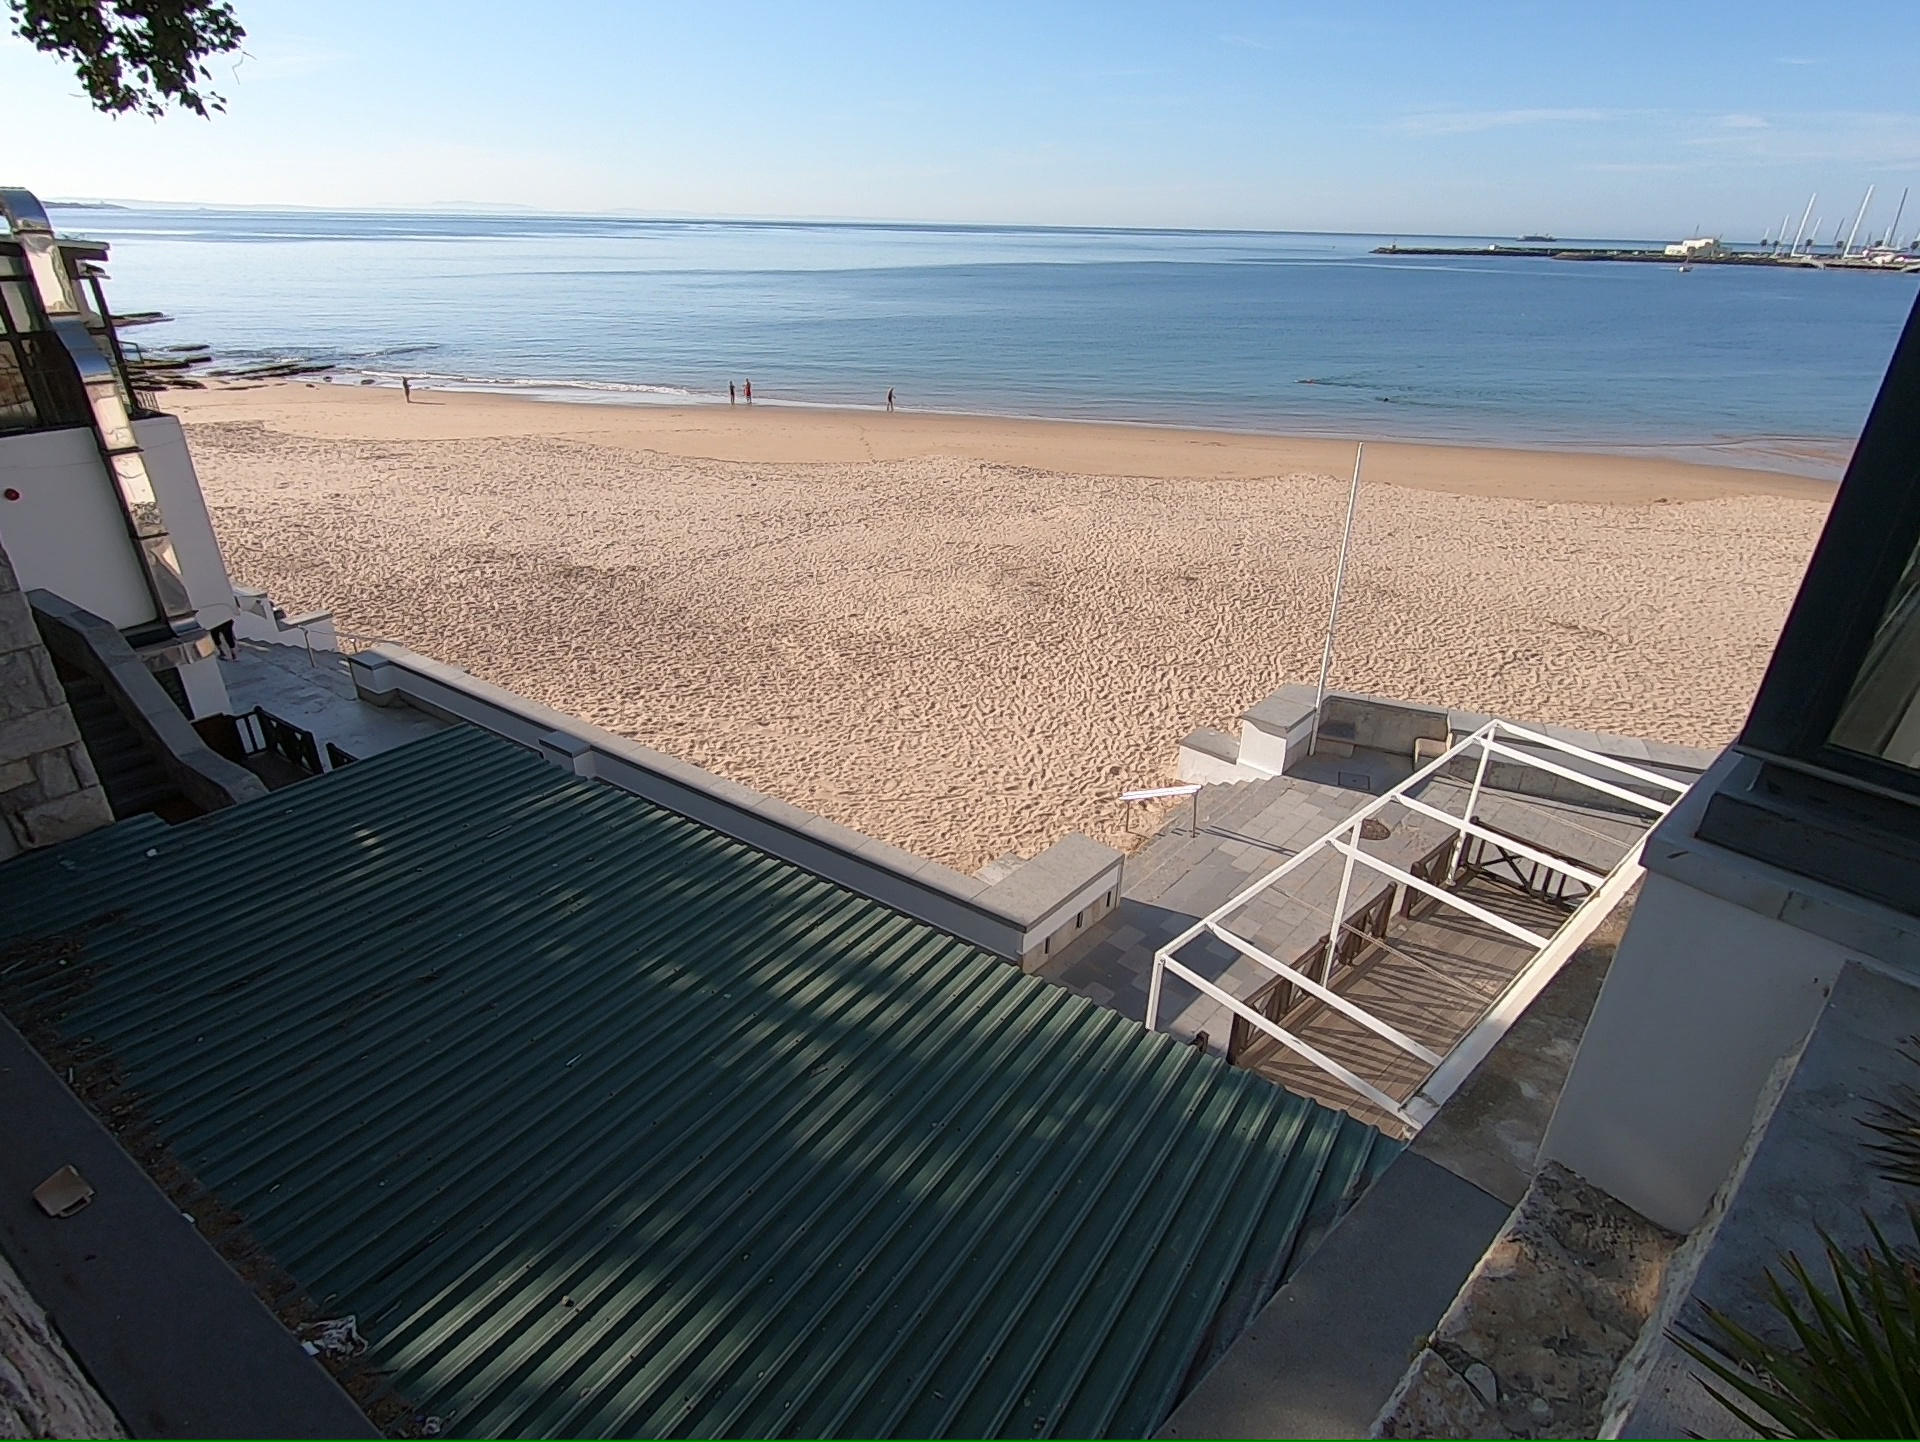person: (400, 374, 414, 404), (884, 385, 898, 413), (726, 381, 738, 406), (743, 376, 753, 403)
